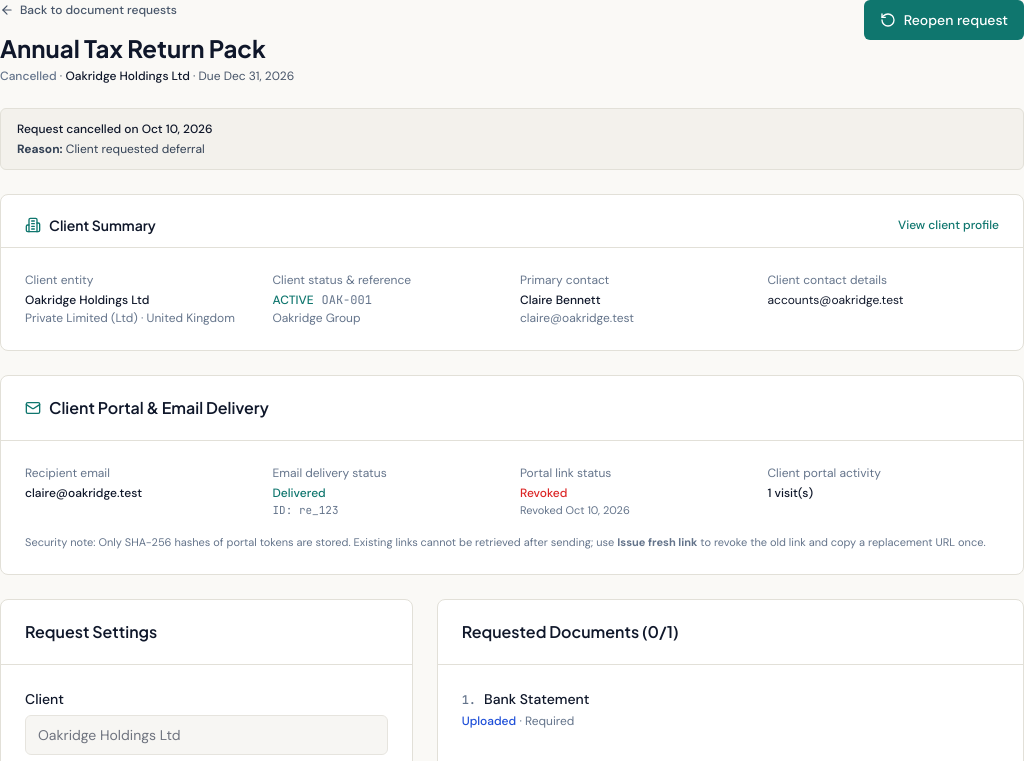
Scenario: Client & Document Request UI Enhancements › requires confirmation before saving edits on an issued RequestDetailPage and displays Reopen + Cancellation reason
This screenshot has width=1024, height=761.
Expected: the text "Client requested deferral" is shown, [66, 141, 205, 157]
Click the button "Reopen request". click: (944, 20)
box: [864, 0, 1023, 40]
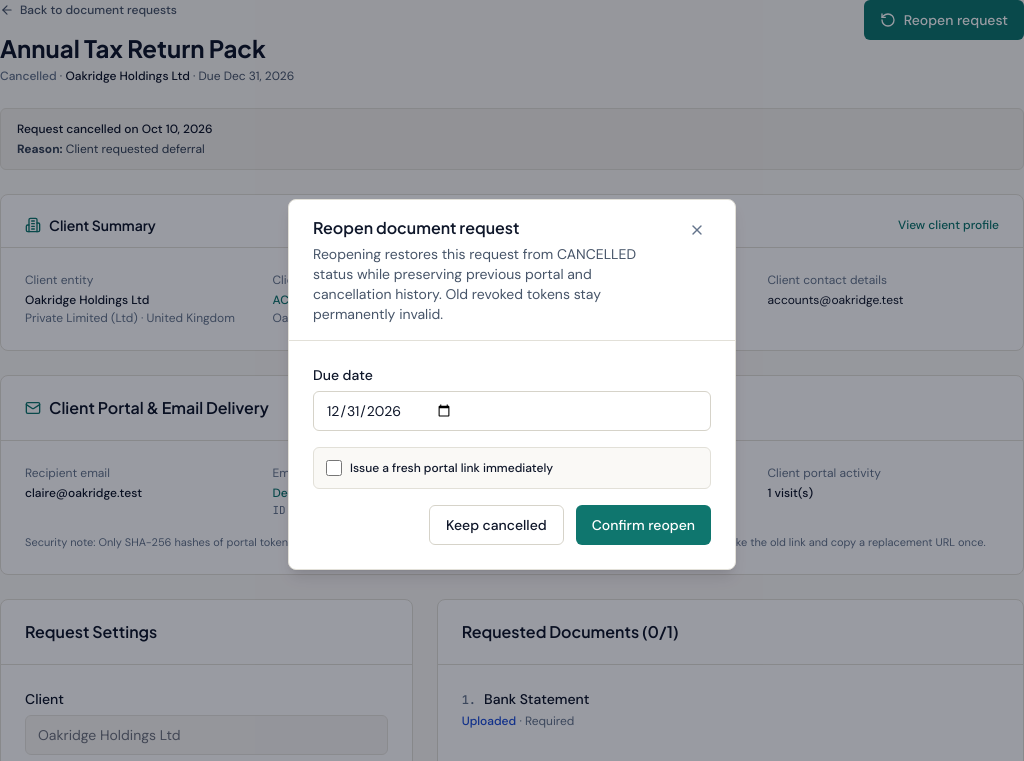
Now the checkbox labelled "Issue a fresh portal link immediately" is shown
Click the checkbox labelled "Issue a fresh portal link immediately". click: (334, 468)
box: [326, 460, 342, 476]
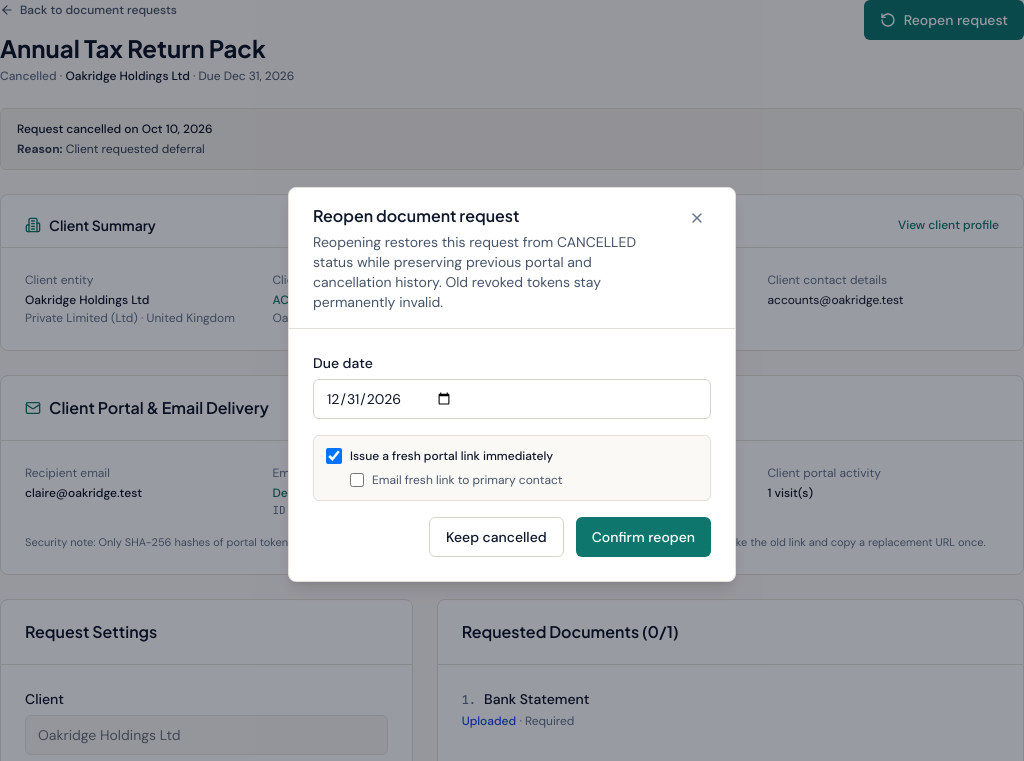
Click the button "Confirm reopen". click: (643, 536)
box: [576, 516, 711, 556]
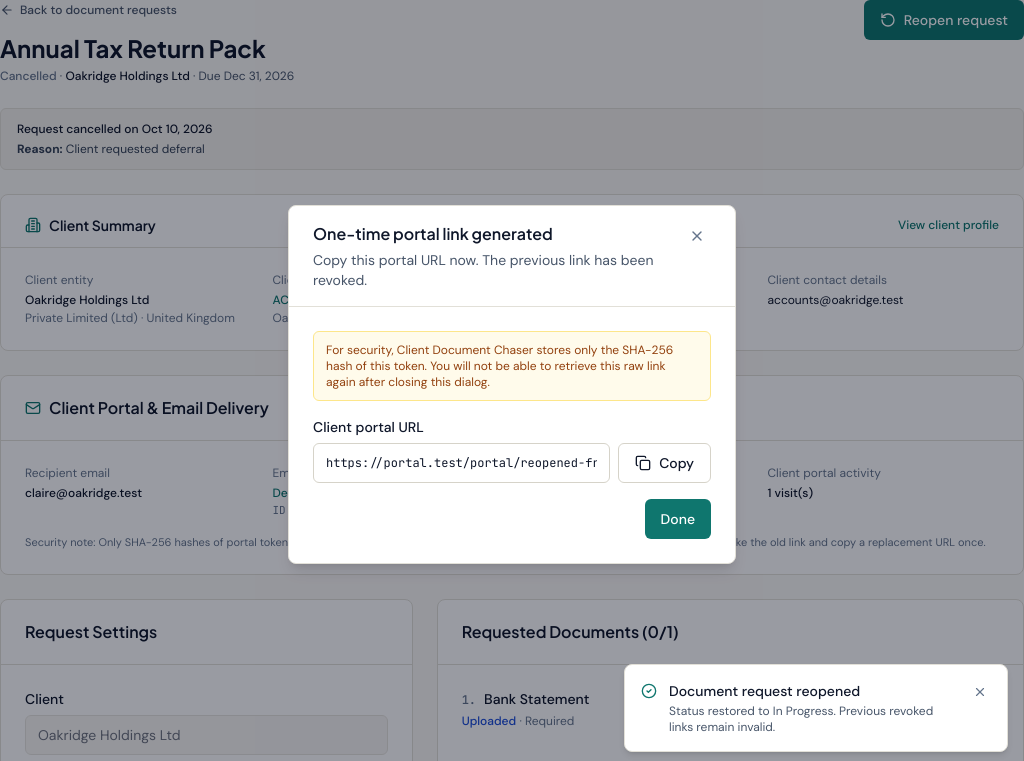
Now the field showing "https://portal.test/portal/reopened-fresh-token" is shown, box [313, 442, 610, 482]
